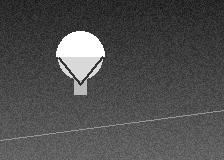helmet: (56, 31, 104, 84)
